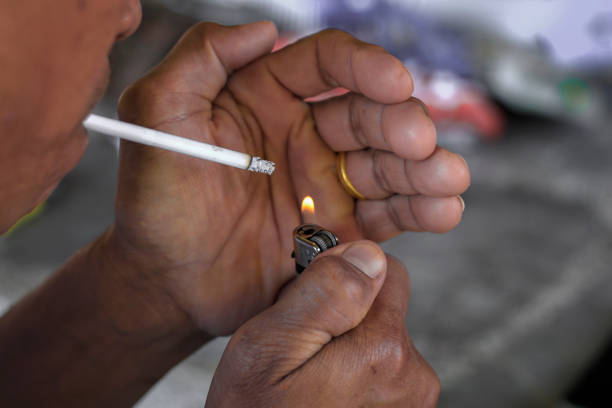cigarette: (82, 110, 276, 175)
